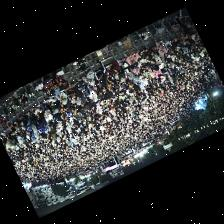person: (93, 56, 106, 80), (40, 104, 51, 124), (106, 61, 121, 75), (152, 66, 164, 82), (65, 83, 77, 98), (125, 52, 137, 66), (81, 70, 93, 84), (138, 47, 150, 60), (45, 96, 58, 108), (52, 109, 61, 126), (105, 73, 116, 86), (59, 98, 70, 111), (88, 84, 96, 101), (153, 53, 162, 68), (71, 89, 80, 104), (77, 78, 88, 90), (55, 91, 66, 103), (36, 121, 44, 137), (29, 106, 40, 117), (77, 85, 88, 96), (17, 115, 27, 127), (97, 80, 107, 92), (80, 102, 89, 115), (88, 79, 98, 90), (179, 33, 189, 44), (25, 117, 31, 135), (163, 39, 172, 50), (140, 62, 151, 71), (123, 67, 131, 79), (131, 73, 139, 85), (30, 123, 37, 136), (137, 57, 146, 67), (170, 38, 181, 46), (104, 91, 112, 102), (113, 74, 123, 82), (157, 48, 167, 56), (16, 135, 22, 147), (143, 70, 151, 79), (118, 58, 127, 66), (119, 84, 125, 95), (128, 65, 139, 71), (80, 94, 85, 107), (95, 103, 101, 113), (3, 128, 10, 136), (96, 89, 103, 96), (147, 57, 155, 63), (49, 70, 55, 78)
